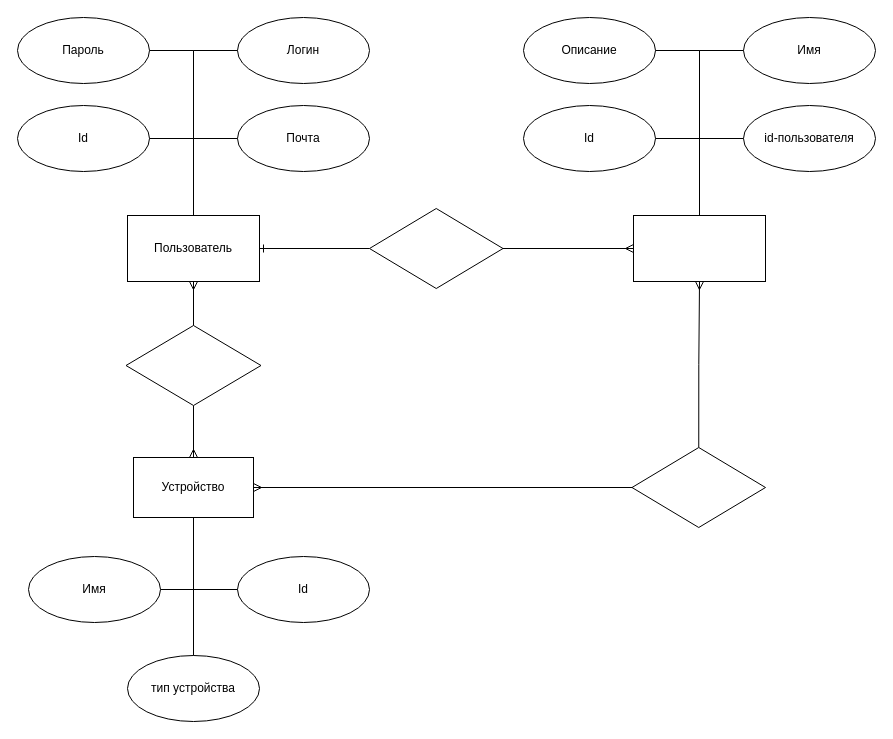
The diagram is 893 pixels wide and 739 high, and some of its shapes have lost their labels. Here are the shapes that lost their labels. From the top down, the centre of each, then its label:
the point at 435,248: Имеет
the point at 699,248: Сценарий
the point at 193,365: Владеет
the point at 698,487: Использует
